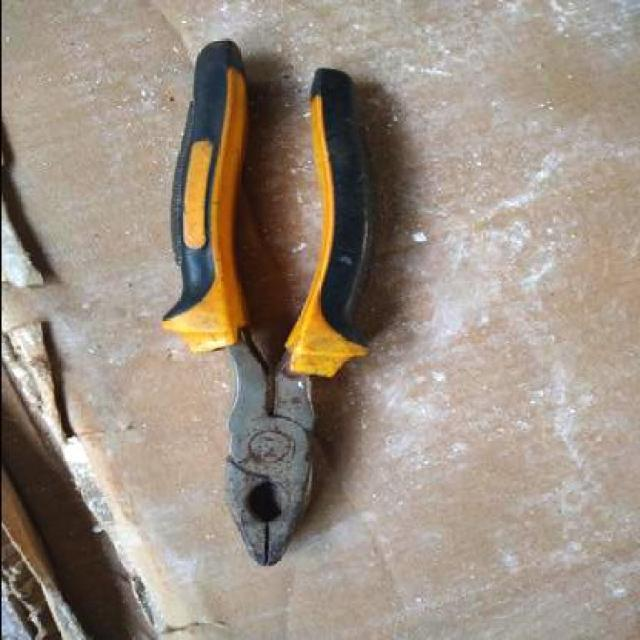pliers: (155, 38, 374, 562)
